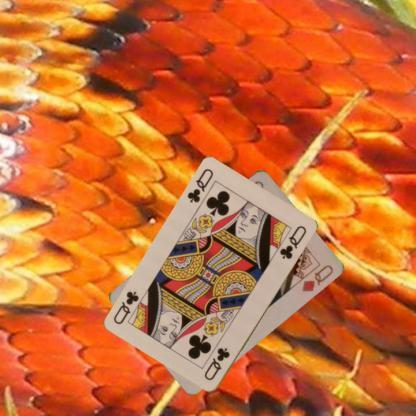Qc: (184, 166, 215, 204), (202, 344, 231, 382)
